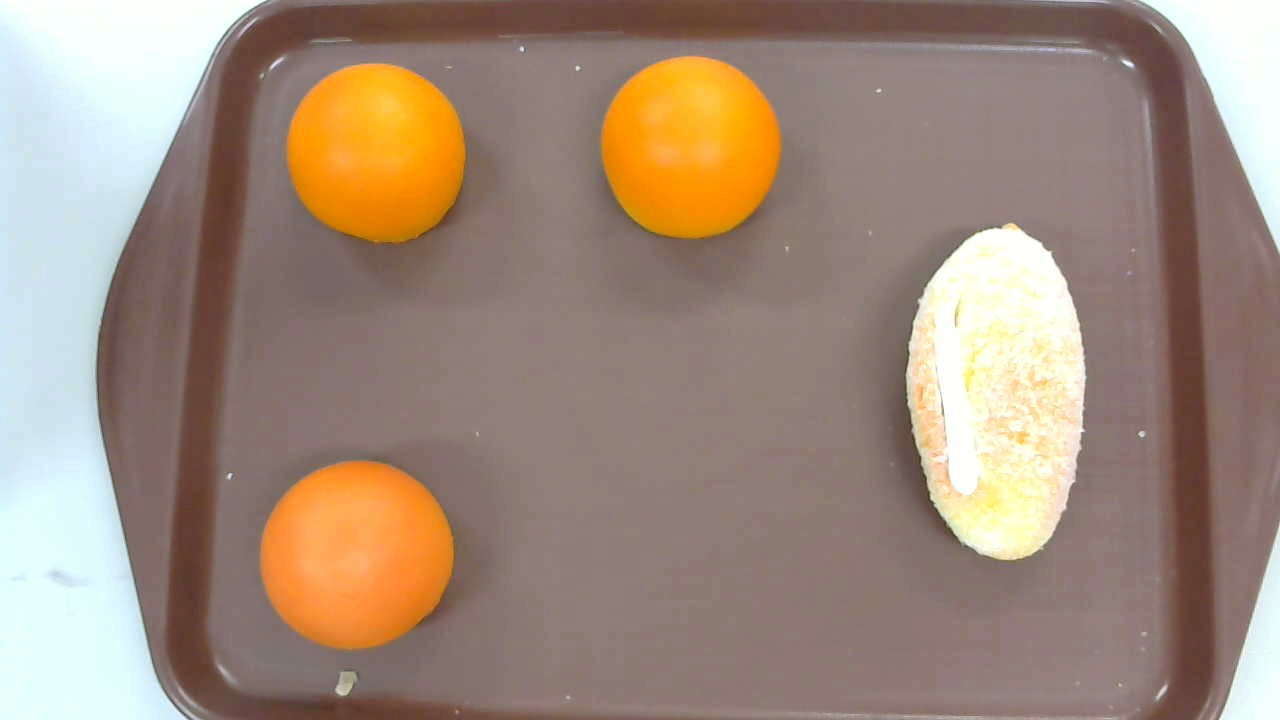bun: (260, 460, 453, 652), (599, 55, 781, 239), (287, 61, 466, 244)
coconut: (904, 222, 1086, 561)
